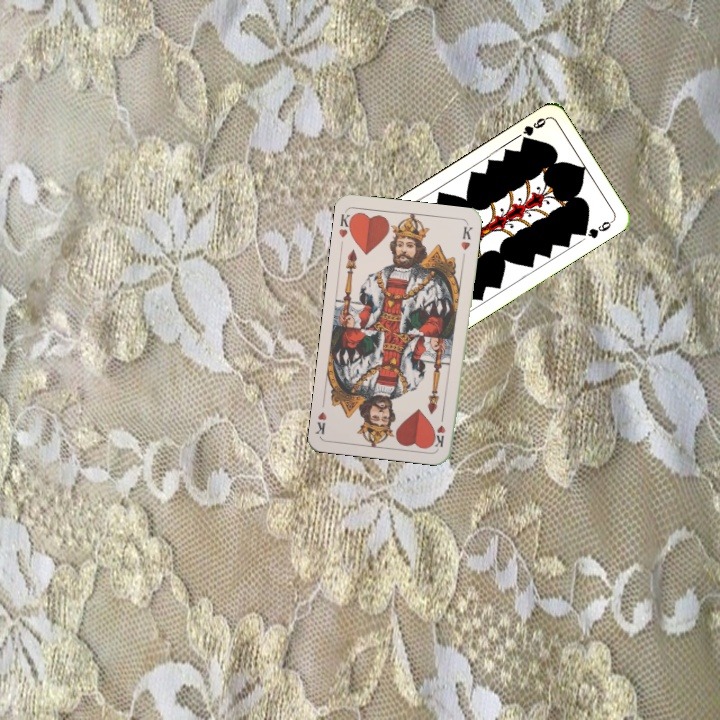G9: (517, 113, 550, 146)
HK: (335, 208, 357, 240), (431, 409, 448, 450)
